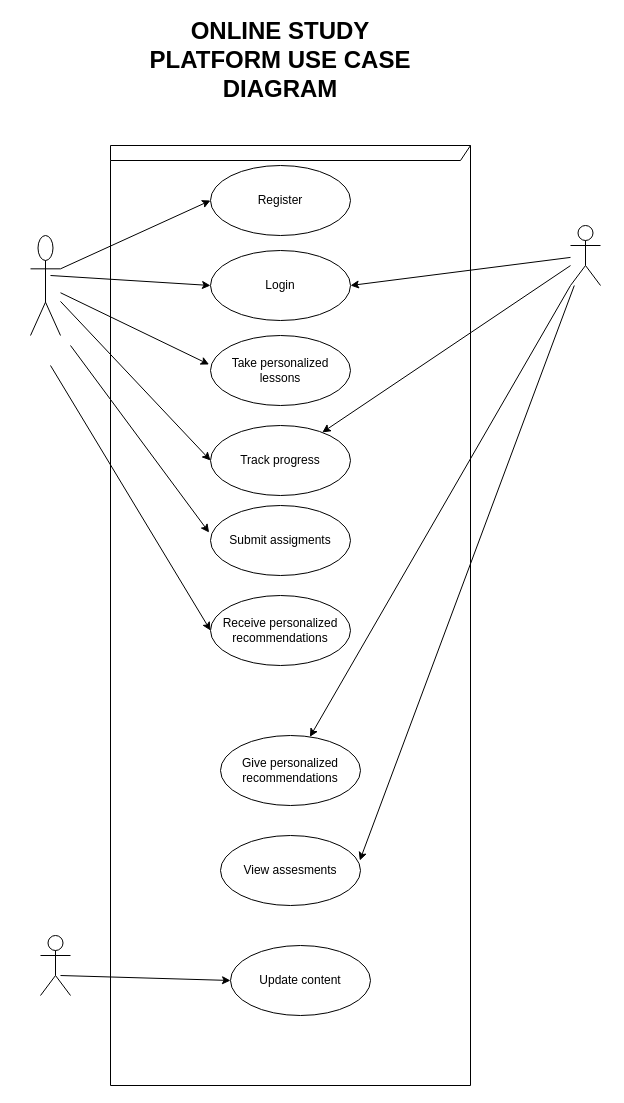
This 624x1103 diagram has some shape labels left out. The shapes that lost their labels are listed below. From the top down, each one's box as (x1, y1, x2, y2) in pixels, then its label:
(570, 224, 600, 286): Teacher
(30, 234, 60, 336): Student
(110, 144, 470, 1086): Online Study platform
(40, 934, 70, 996): System Admin
